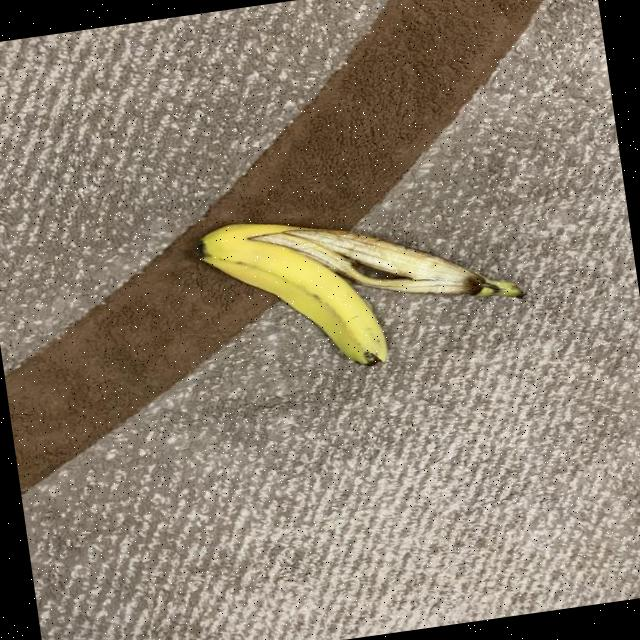banana-peel: (192, 182, 532, 390)
